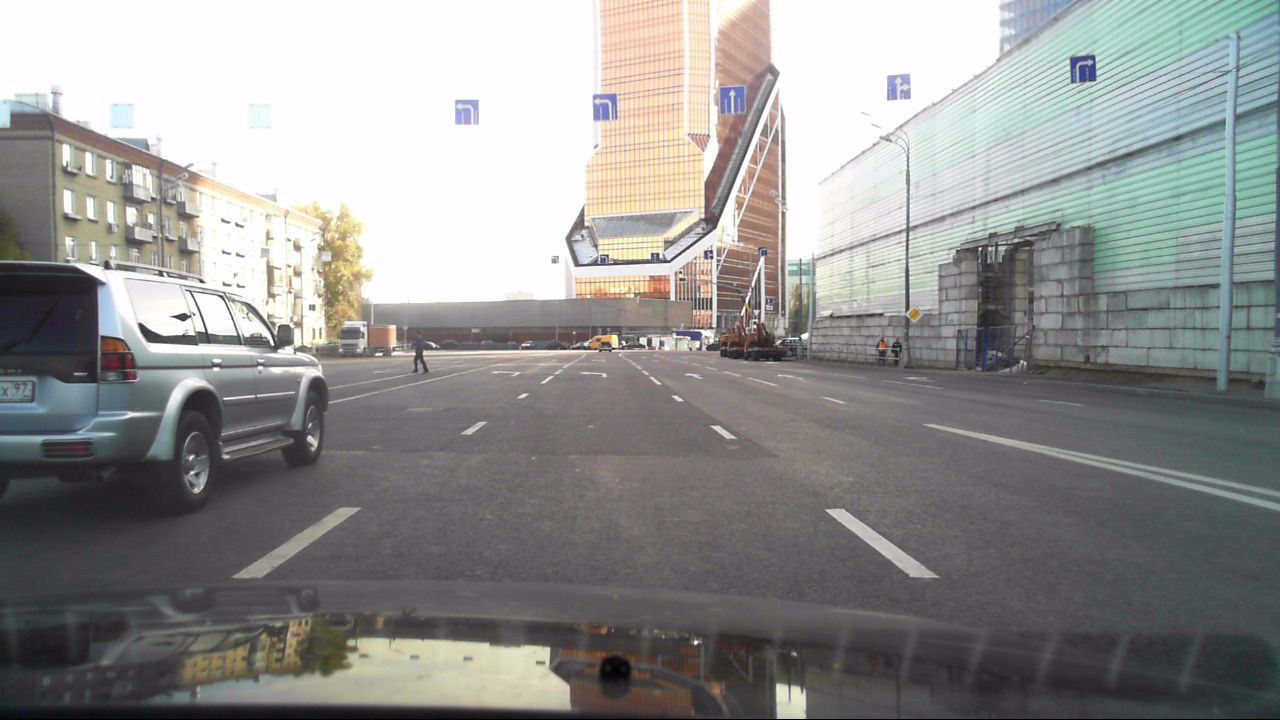main road: (906, 302, 926, 323)
